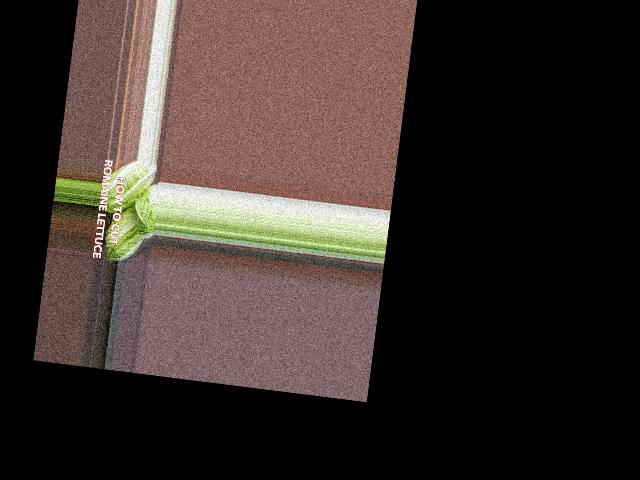lettuce: (97, 196, 152, 266)
